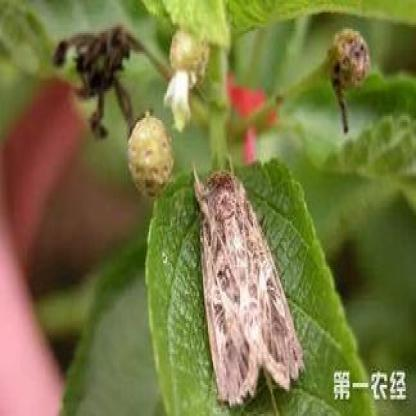armyworm: (190, 152, 309, 406)
